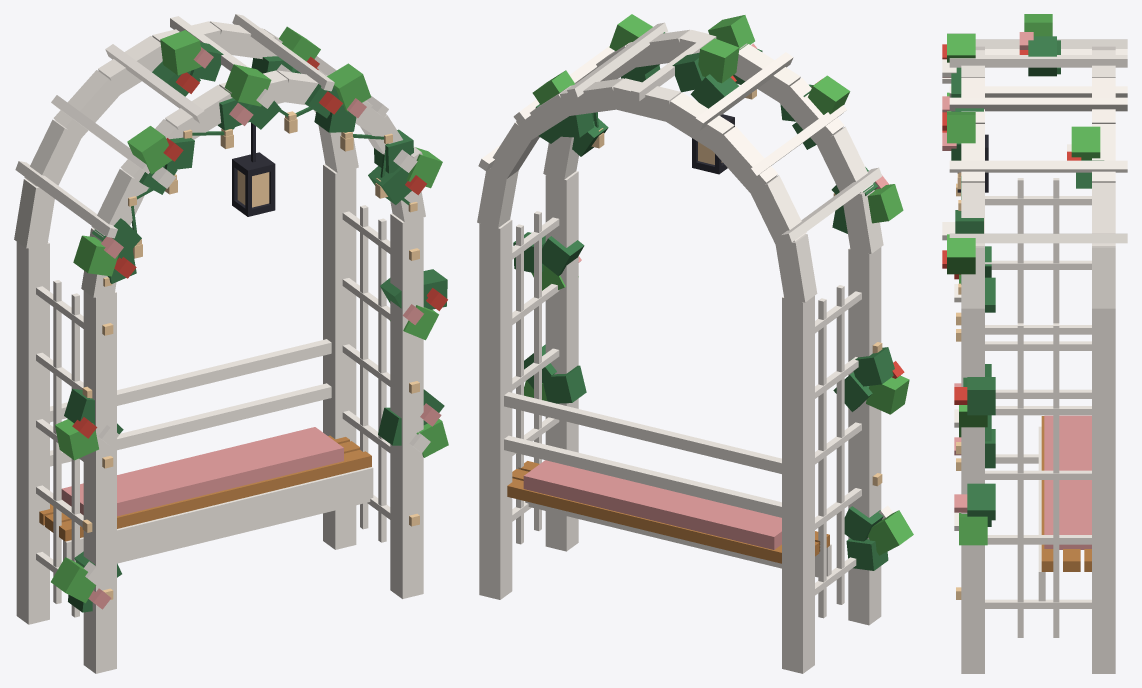
File: CatCafe_Lawn_FairyLightArch.glb
The picture shows the model from 3 angles, left to right: view 1: azimuth 30°, elevation 25°; view 2: azimuth 150°, elevation 25°; view 3: azimuth 270°, elevation 25°; orthographic projection. The views are drawn at different scales.
Visible parts, largest first — view 1: CatCafe_Lawn_FairyLightArch, CatCafe_Lawn_FairyLightArch_Bulbs, CatCafe_Lawn_FairyLightArch_Lantern_Swing, CatCafe_Lawn_FairyLightArch_Lantern_Glow; view 2: CatCafe_Lawn_FairyLightArch; view 3: CatCafe_Lawn_FairyLightArch, CatCafe_Lawn_FairyLightArch_Bulbs.
Part boxes in pixels (bbox=[...]): CatCafe_Lawn_FairyLightArch: bbox=[14, 14, 448, 673]; CatCafe_Lawn_FairyLightArch_Bulbs: bbox=[82, 111, 419, 599]; CatCafe_Lawn_FairyLightArch_Lantern_Swing: bbox=[232, 123, 275, 216]; CatCafe_Lawn_FairyLightArch_Lantern_Glow: bbox=[237, 170, 269, 207]; CatCafe_Lawn_FairyLightArch: bbox=[477, 14, 913, 673]; CatCafe_Lawn_FairyLightArch: bbox=[942, 14, 1127, 673]; CatCafe_Lawn_FairyLightArch_Bulbs: bbox=[956, 172, 961, 599].
Bounding box in the file's own units: 3.66 × 5.21 × 1.56.
1 material, 1 textured.
